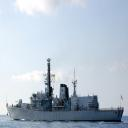Fragata: (7, 58, 125, 123)
